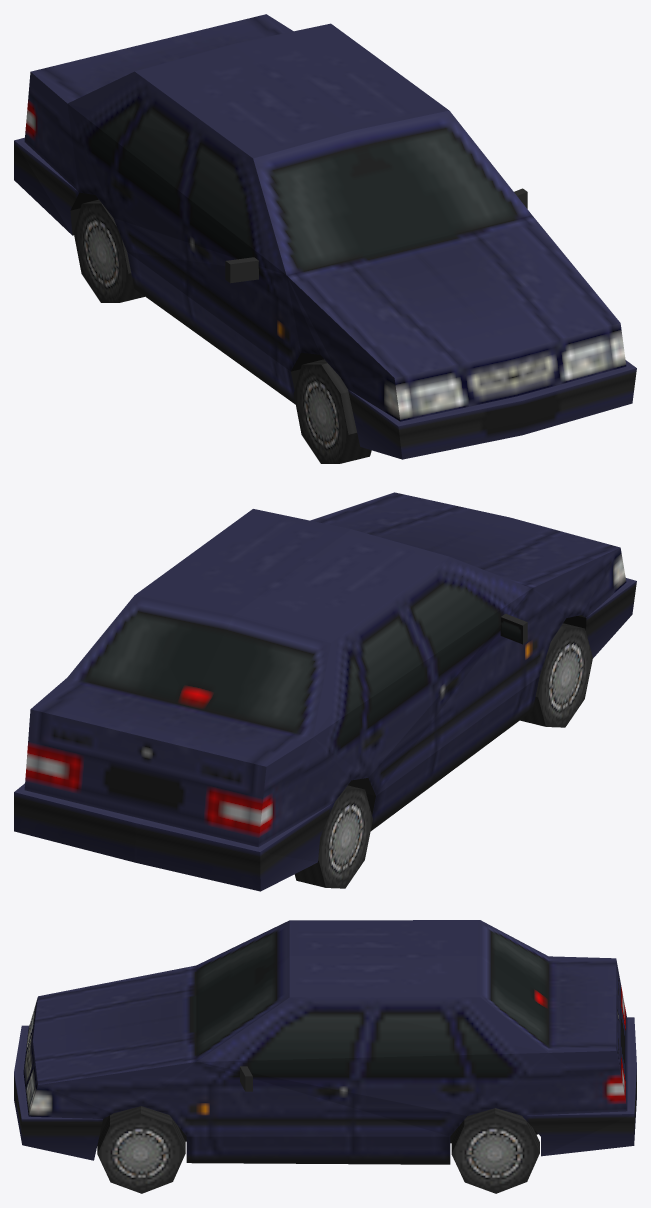
Rendered from Car2_o4.obj.
3 renders of one model, top to bottom at view 1: azimuth 30°, elevation 25°; view 2: azimuth 150°, elevation 25°; view 3: azimuth 270°, elevation 25°, orthographic. The views are drawn at different scales.
Parts seen in each view (by area): view 1: Car2; view 2: Car2; view 3: Car2.
Boxes of the visible parts, x1,y1,x2,y2 form: Car2: [14, 14, 636, 463]; Car2: [14, 492, 636, 891]; Car2: [14, 920, 636, 1193].
Size of the model in its own units: 1.58 by 1.2 by 3.56.
